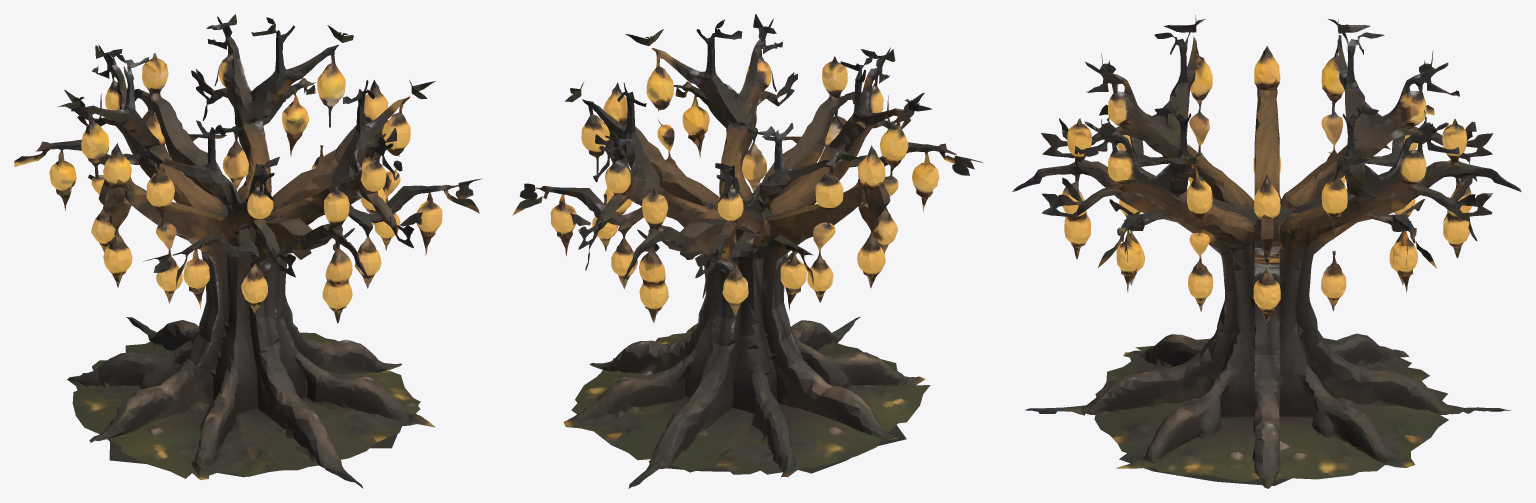
The model's file is Ember_LanternTree.glb.
The picture shows the model from 3 angles, left to right: view 1: azimuth 30°, elevation 25°; view 2: azimuth 150°, elevation 25°; view 3: azimuth 270°, elevation 25°; orthographic projection. The views are drawn at different scales.
Parts seen in each view (by area): view 1: LanternTree_Body; view 2: LanternTree_Body; view 3: LanternTree_Body.
Part boxes in pixels (x1,y1,x2,y2): LanternTree_Body: (14,14,481,488); LanternTree_Body: (512,14,982,488); LanternTree_Body: (1012,15,1521,488).
Bounding box in the file's own units: 8.37 × 8 × 10.49.
Materials: 2 (2 with a texture image).
